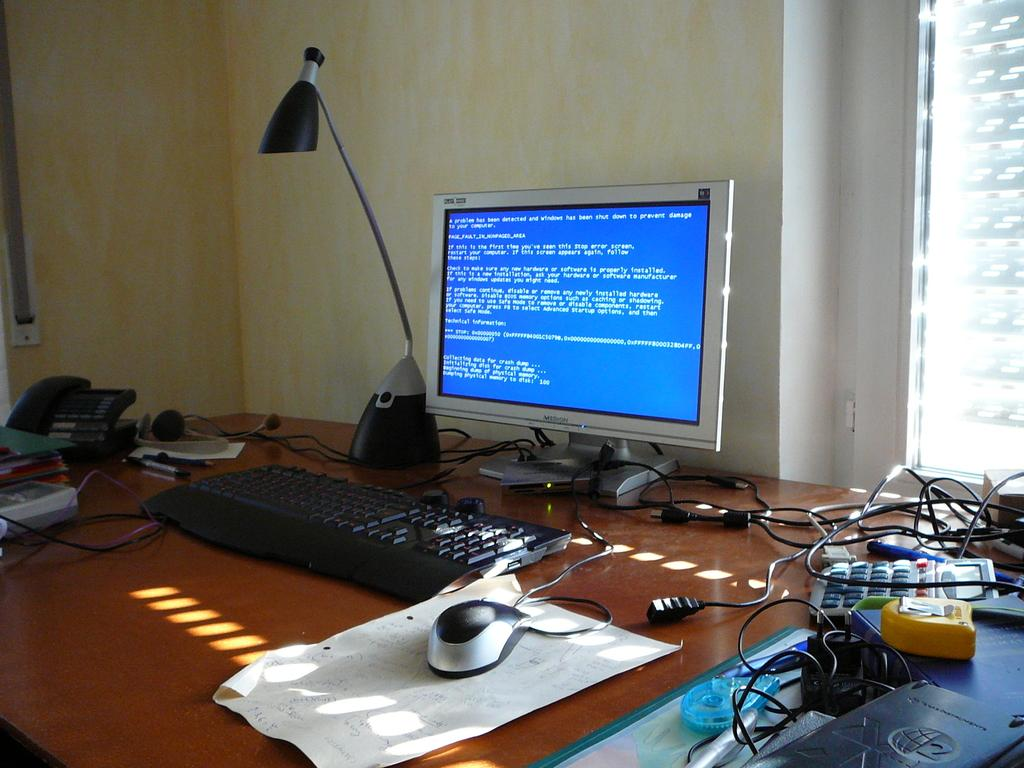Computer-keyboard: (136, 460, 570, 599)
Computer-monitor: (403, 183, 729, 508)
